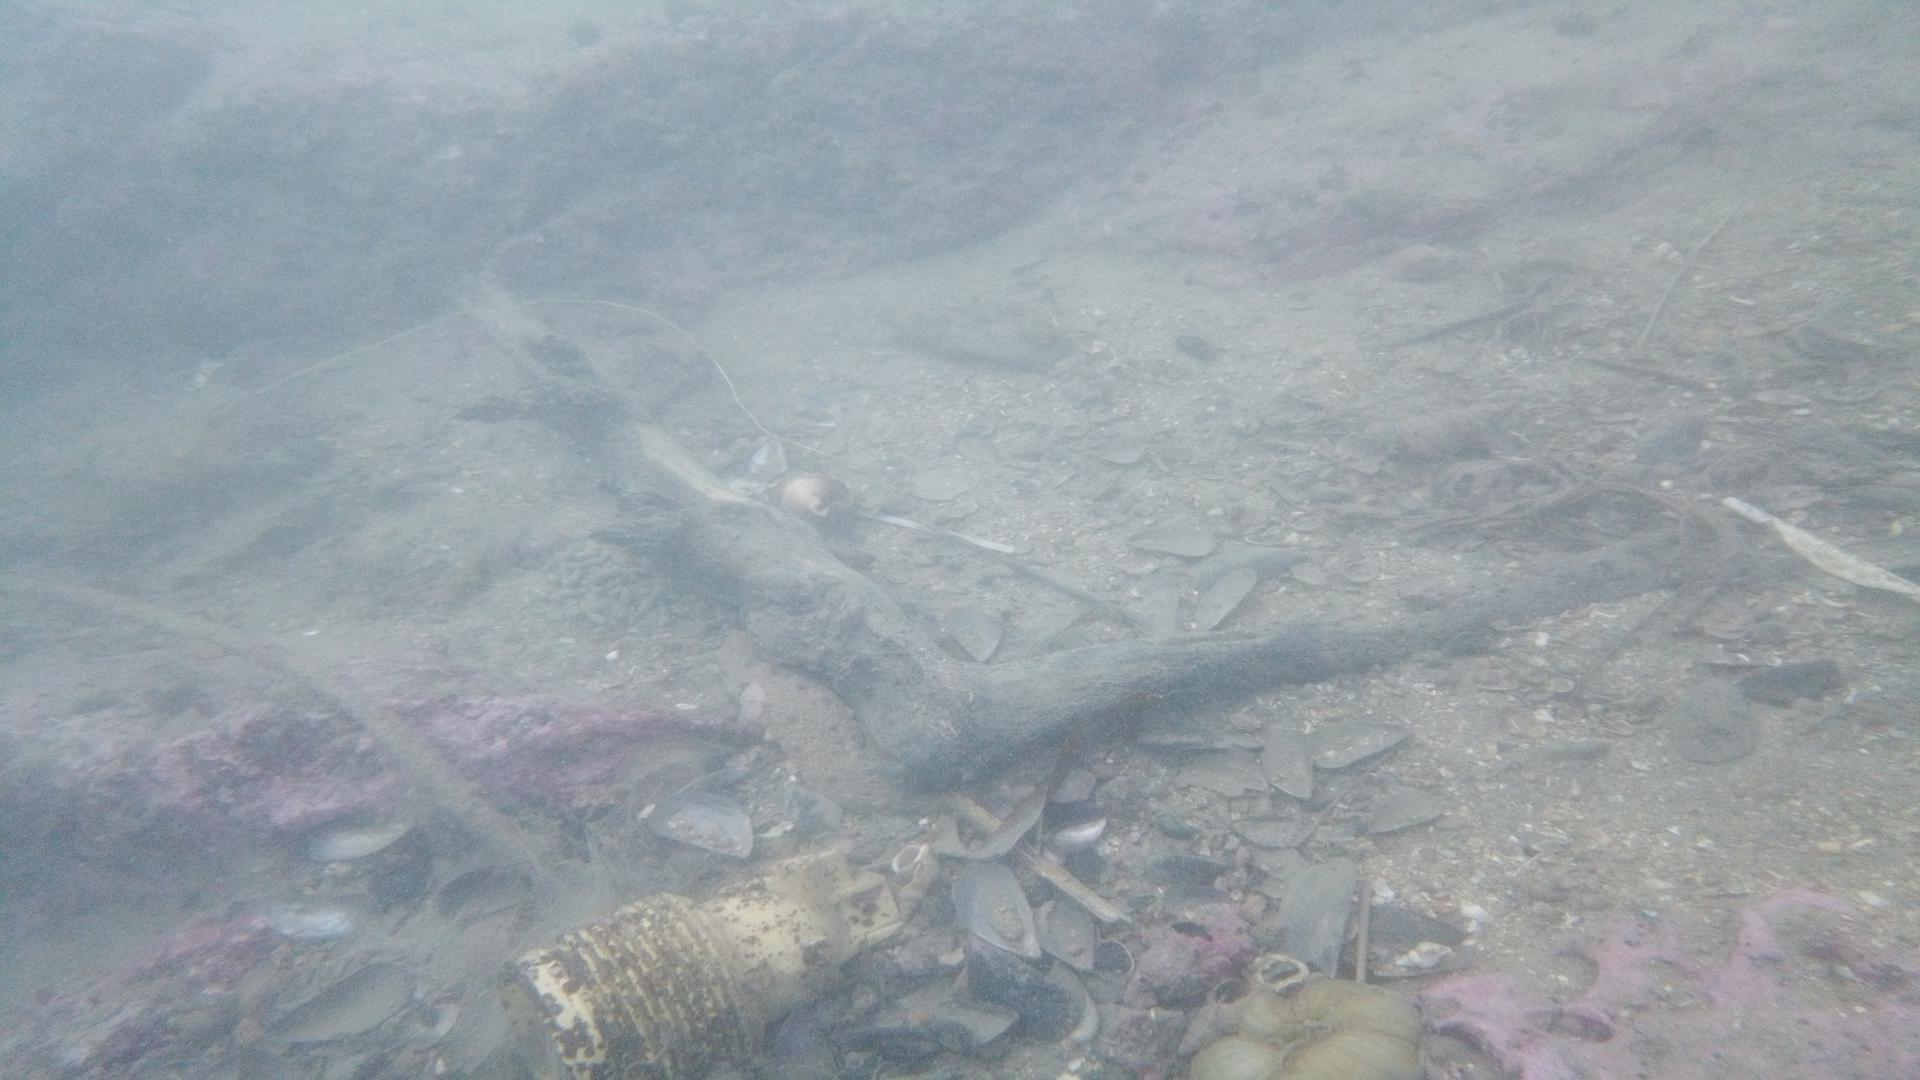rope: (0, 574, 549, 880)
wood: (436, 268, 1687, 796)
